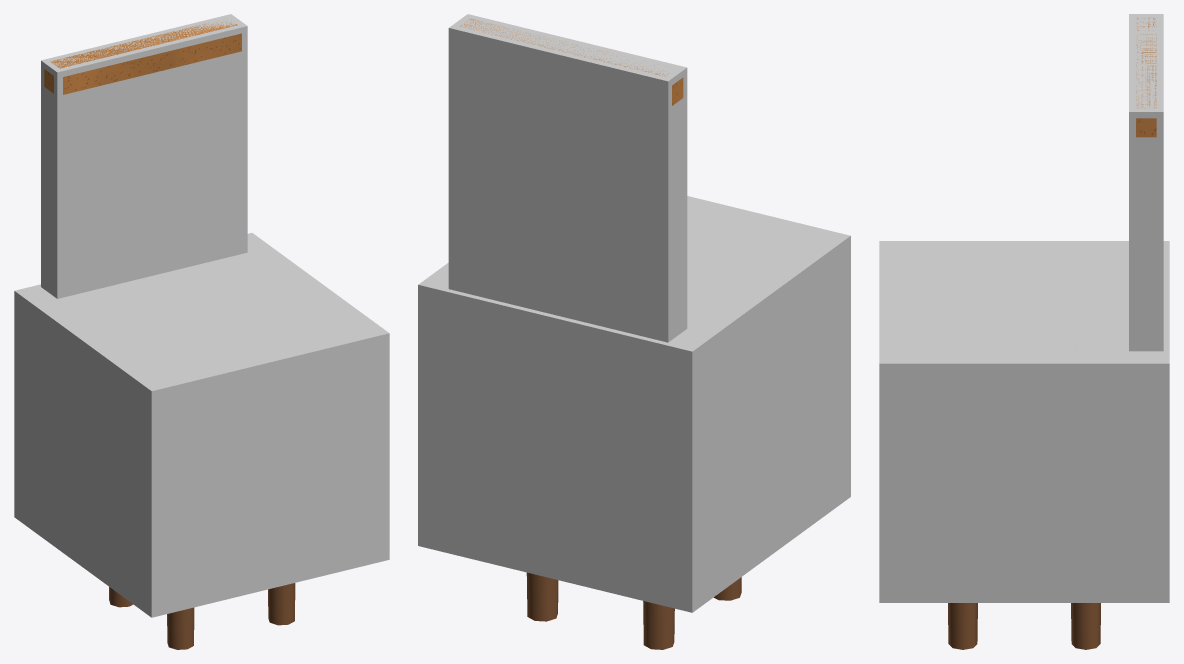
The model's file is Outdoor_Chair_B.fbx.
3 renders of one model, left to right at view 1: azimuth 30°, elevation 25°; view 2: azimuth 150°, elevation 25°; view 3: azimuth 270°, elevation 25°, orthographic. The views are drawn at different scales.
Visible parts, largest first — view 1: COL_Outdoor_Chair_B_0, COL_Outdoor_Chair_B_1, Outdoor_Chair_B_Back, Outdoor_Chair_B_Leg; view 2: COL_Outdoor_Chair_B_0, COL_Outdoor_Chair_B_1, Outdoor_Chair_B_Leg, Outdoor_Chair_B_Back; view 3: COL_Outdoor_Chair_B_0, COL_Outdoor_Chair_B_1, Outdoor_Chair_B_Leg, Outdoor_Chair_B_Back.
Boxes of the visible parts, x1,y1,x2,y2 form: COL_Outdoor_Chair_B_0: (14,233,389,617); COL_Outdoor_Chair_B_1: (41,14,247,298); Outdoor_Chair_B_Back: (44,22,241,94); Outdoor_Chair_B_Leg: (109,583,295,649); COL_Outdoor_Chair_B_0: (418,196,850,612); COL_Outdoor_Chair_B_1: (448,14,687,342); Outdoor_Chair_B_Leg: (526,572,741,649); Outdoor_Chair_B_Back: (460,18,683,105); COL_Outdoor_Chair_B_0: (879,241,1169,602); COL_Outdoor_Chair_B_1: (1129,14,1163,351); Outdoor_Chair_B_Leg: (948,603,1100,649); Outdoor_Chair_B_Back: (1136,17,1156,137).
Bounding box in the file's own units: 0.5 × 1.05 × 0.5.
